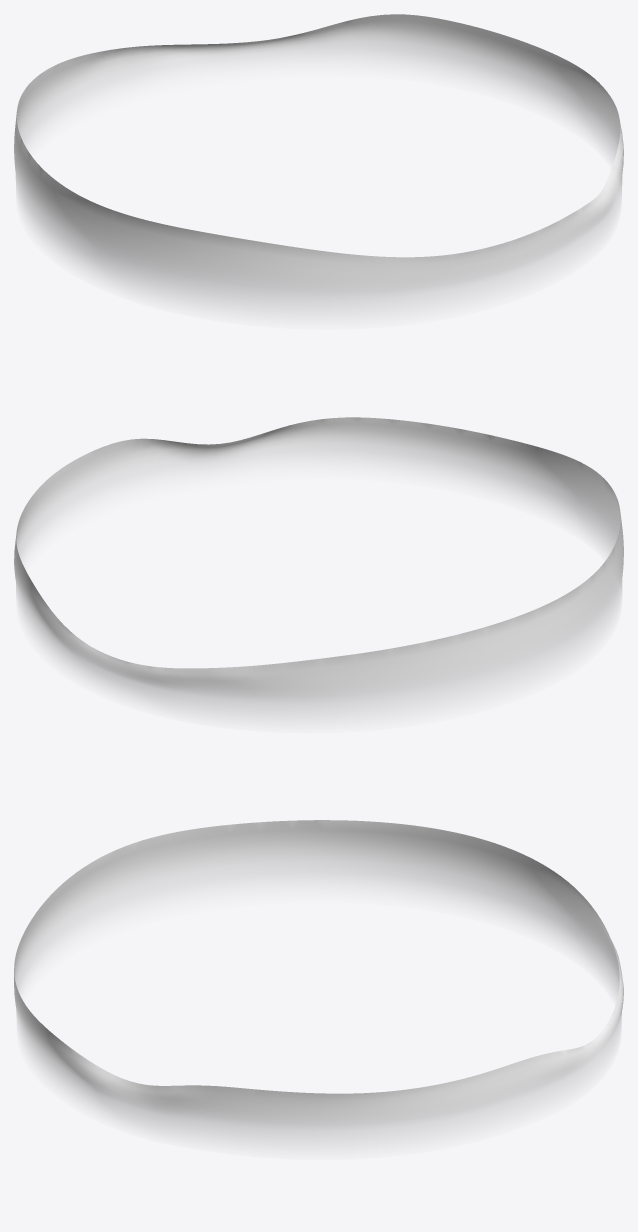
The model's file is baseSides.glb.
3 renders of one model, top to bottom at view 1: azimuth 30°, elevation 25°; view 2: azimuth 150°, elevation 25°; view 3: azimuth 270°, elevation 25°, orthographic.
Visible parts, largest first — view 1: baseSides; view 2: baseSides; view 3: baseSides.
Part boxes in pixels (left/top/right/bottom): baseSides: left=14, top=14, right=623, bottom=316; baseSides: left=14, top=417, right=623, bottom=720; baseSides: left=14, top=820, right=623, bottom=1147.
Size of the model in its own units: 37.37 by 9.91 by 37.34.
Materials: 1 (1 with a texture image).
